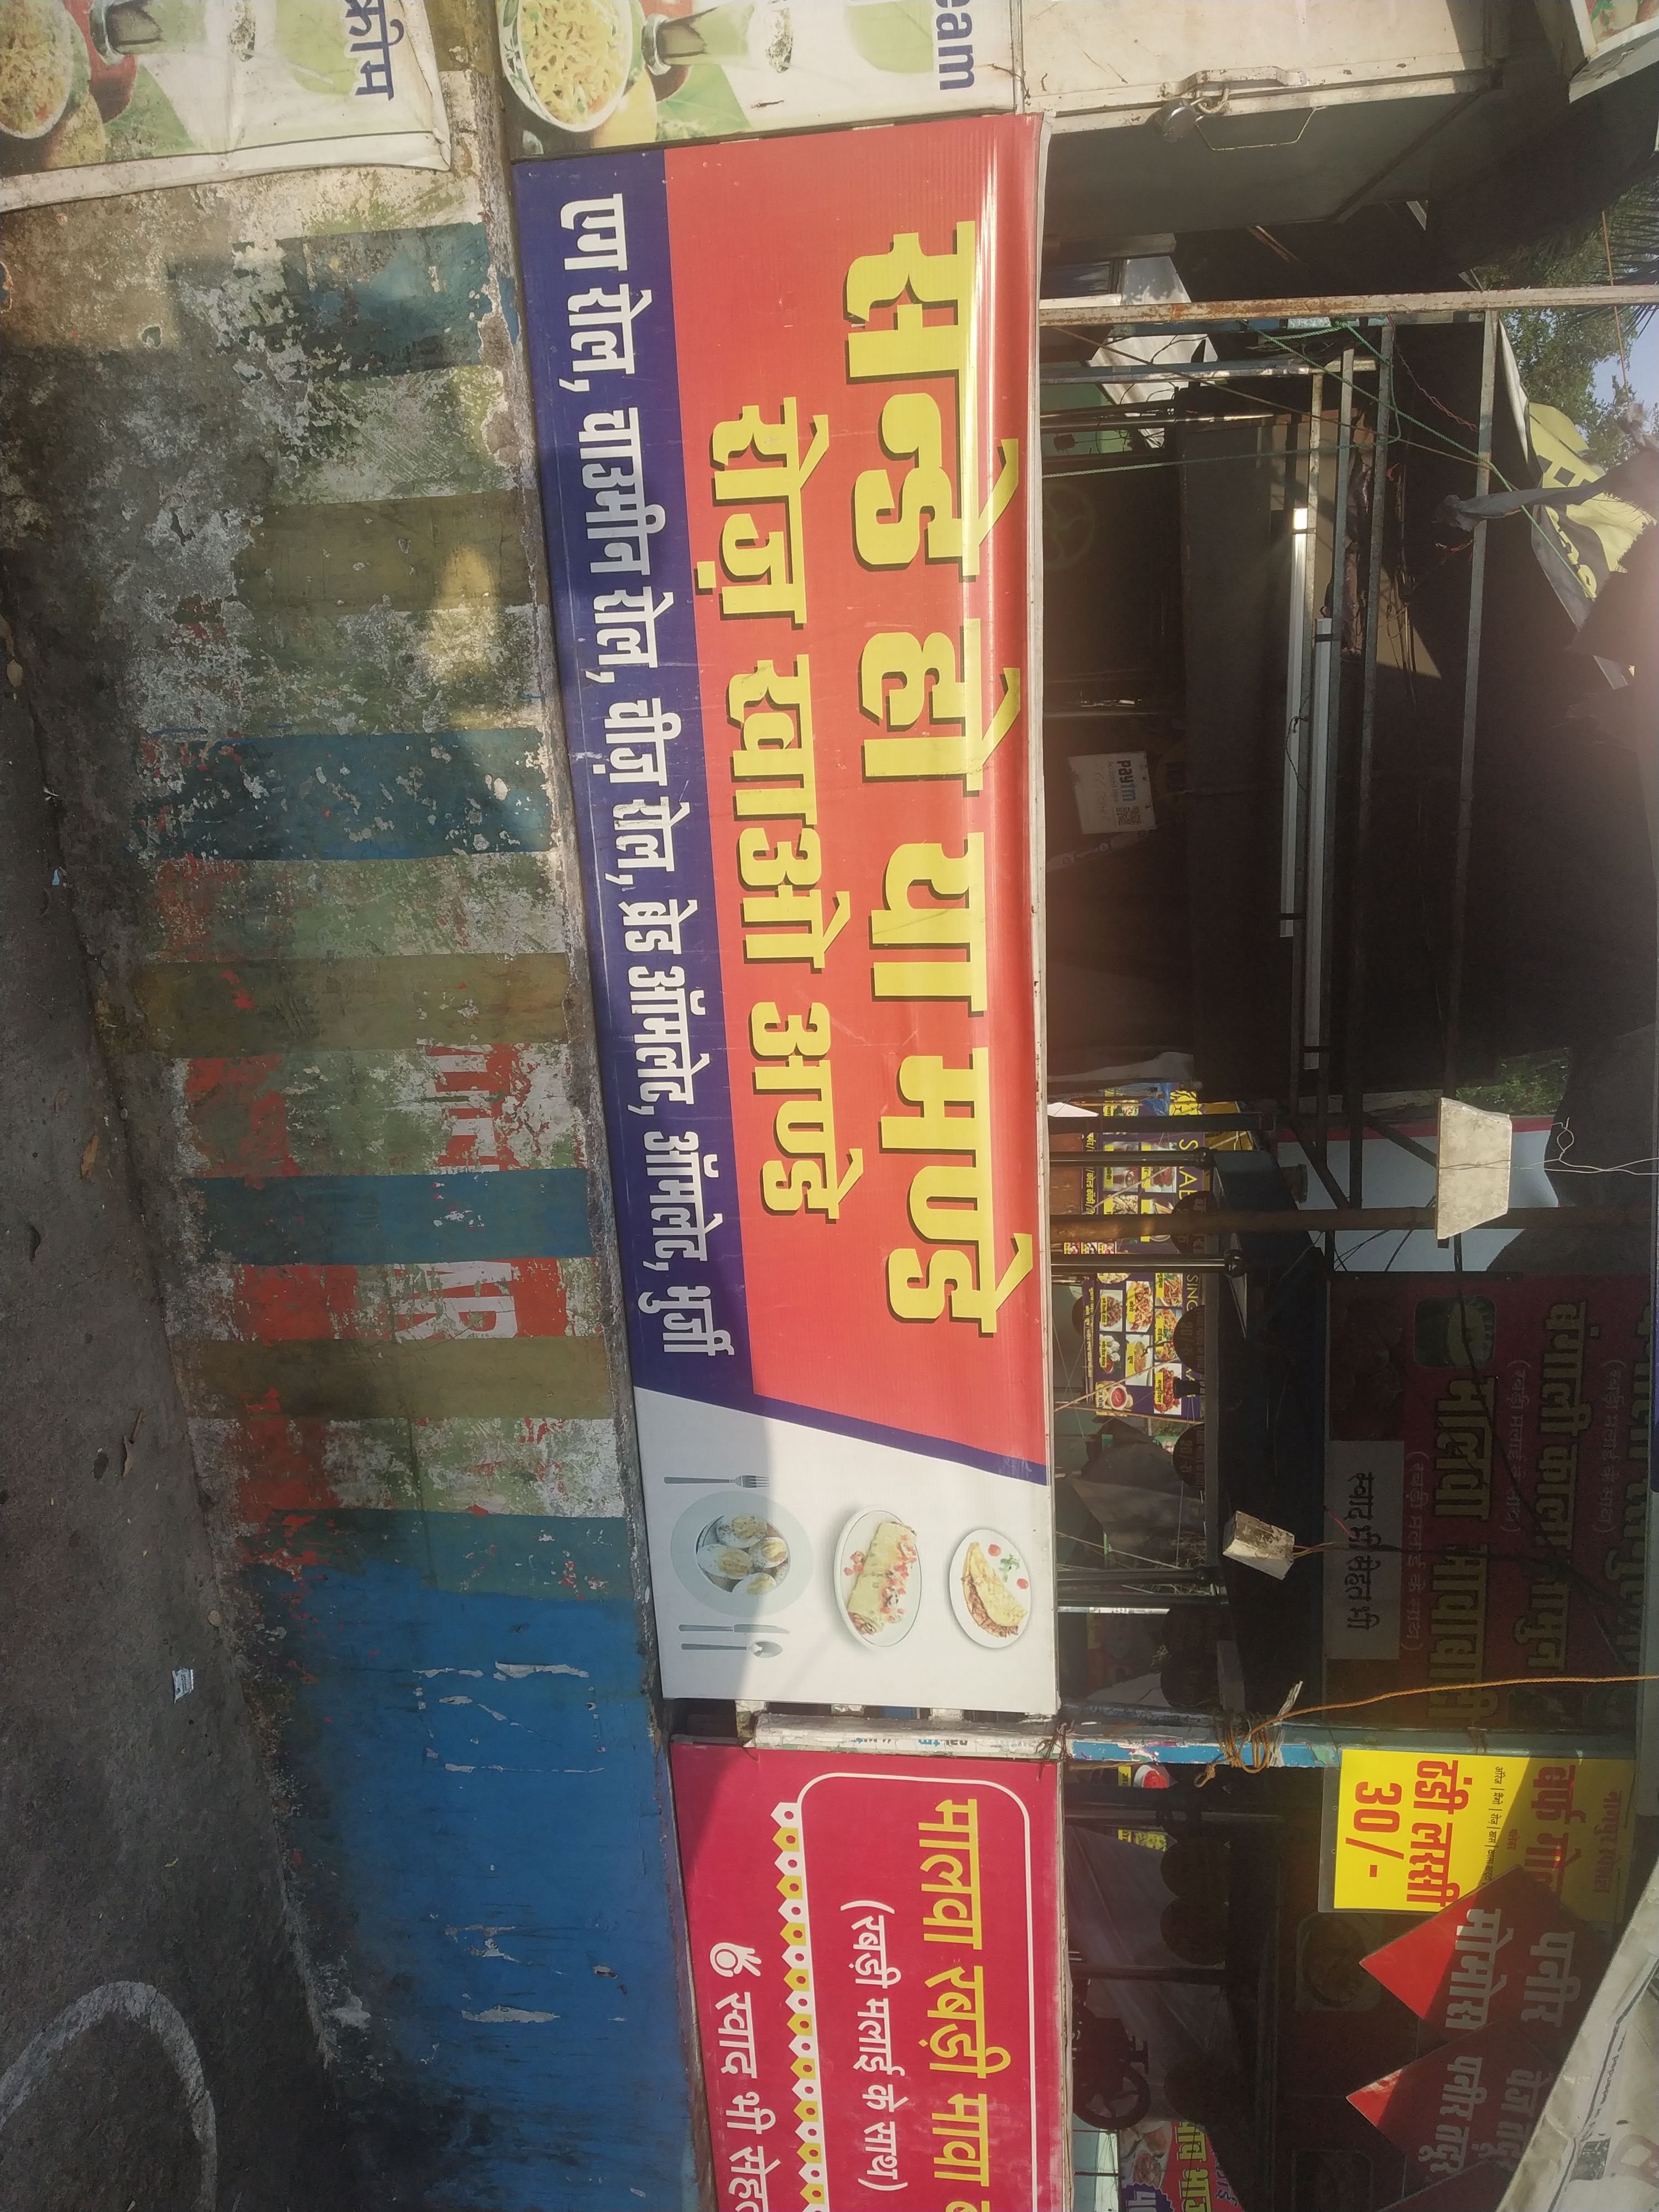text: (530, 118, 1060, 1747), (662, 1731, 1061, 2212), (1288, 1747, 1656, 2212), (1297, 1271, 1654, 1735)
